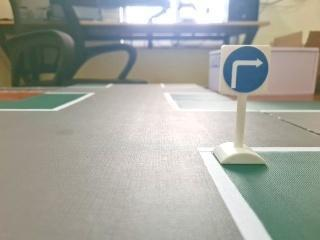right: (217, 40, 273, 96)
